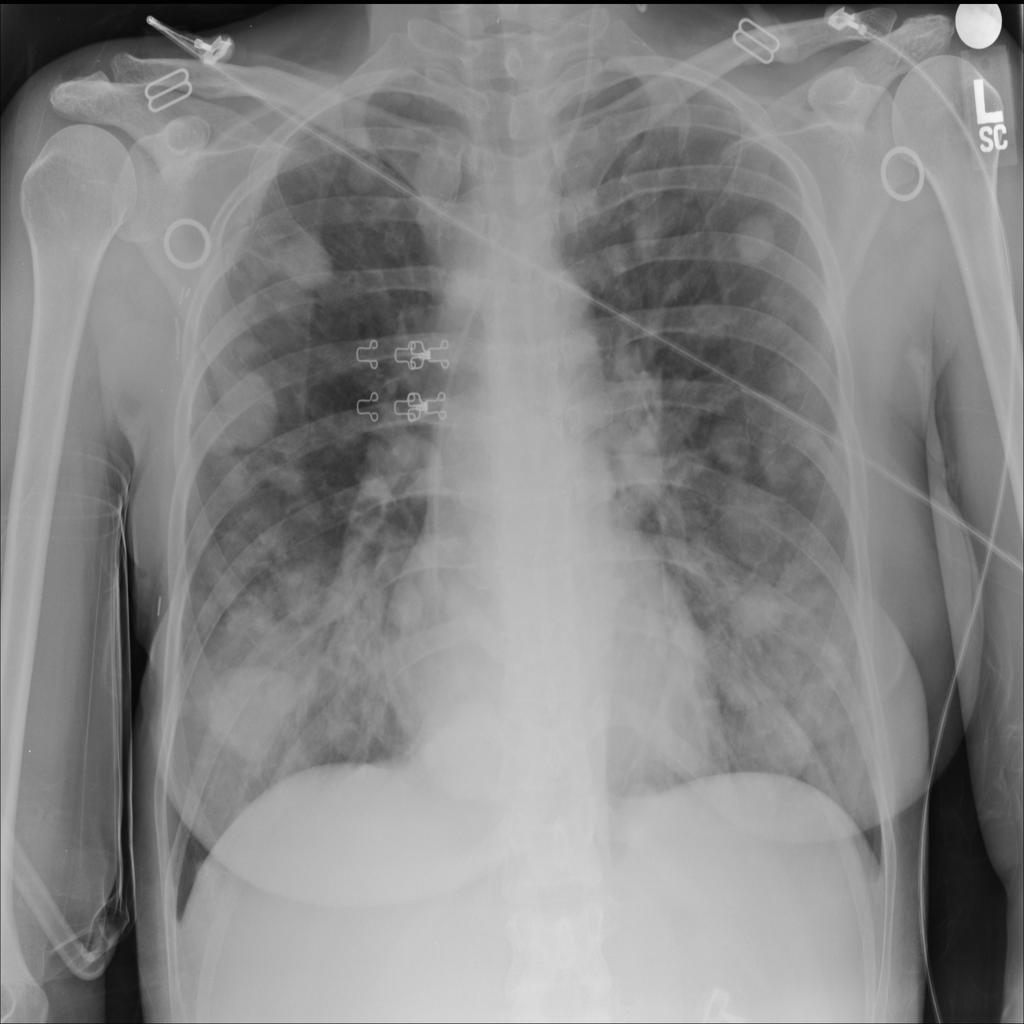nodule: (189, 636, 321, 778), (409, 681, 526, 820), (195, 361, 287, 471), (733, 704, 814, 784), (717, 480, 789, 568), (361, 430, 438, 506), (270, 221, 343, 300), (269, 552, 337, 631), (406, 131, 471, 211), (764, 427, 828, 505), (724, 573, 789, 649), (724, 202, 787, 280), (676, 283, 742, 357), (383, 566, 444, 644), (761, 343, 828, 411), (703, 405, 762, 481), (210, 451, 261, 504), (338, 152, 388, 206), (371, 207, 421, 261), (220, 327, 278, 373), (750, 275, 798, 330), (336, 119, 384, 169)
